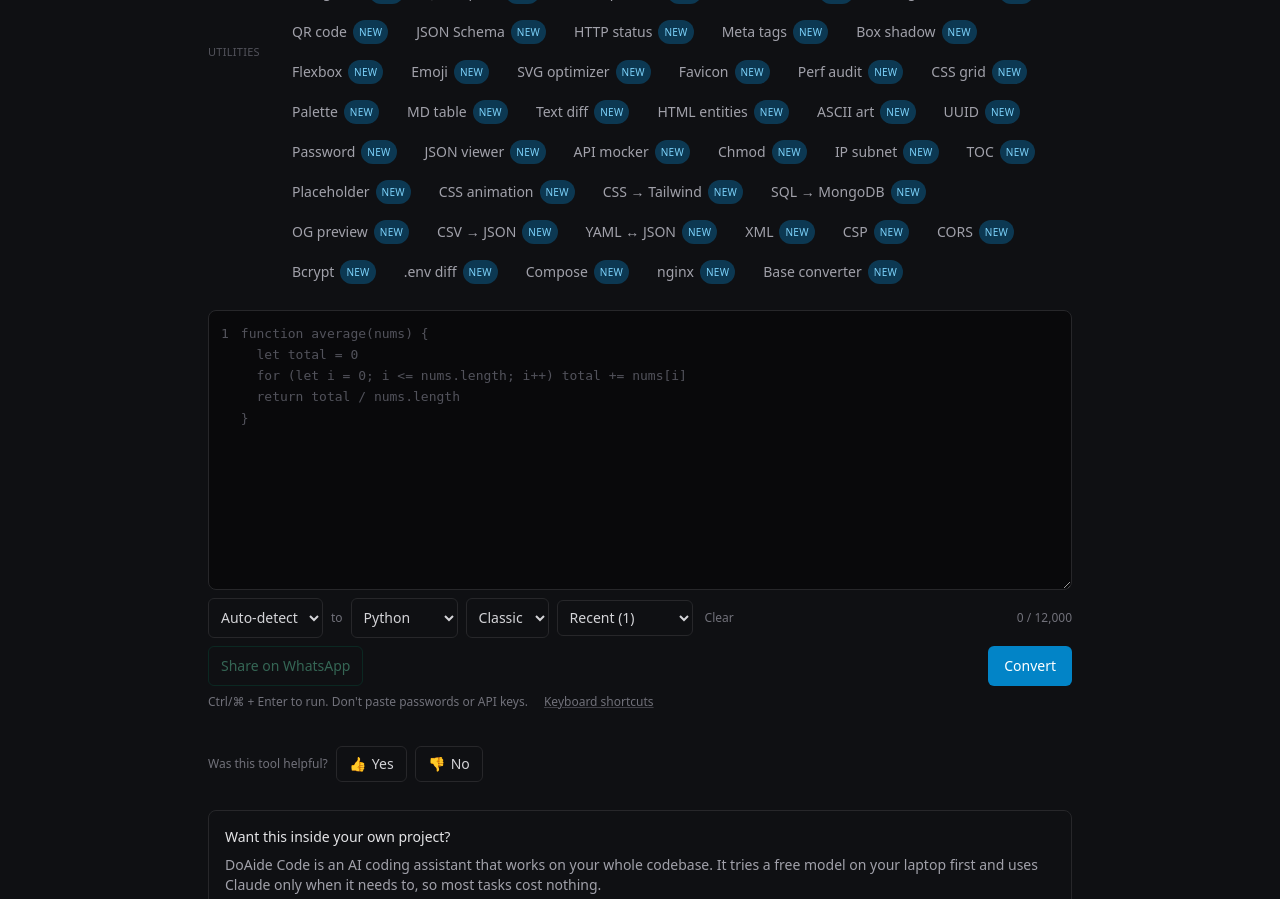
Test: CodeToolsPage › converts with a chosen target language
(page scrolled)
Replace the text in the text box with test id "tool-code" with "x = 1" at {"x": 654, "y": 450}, box [237, 311, 1071, 588]
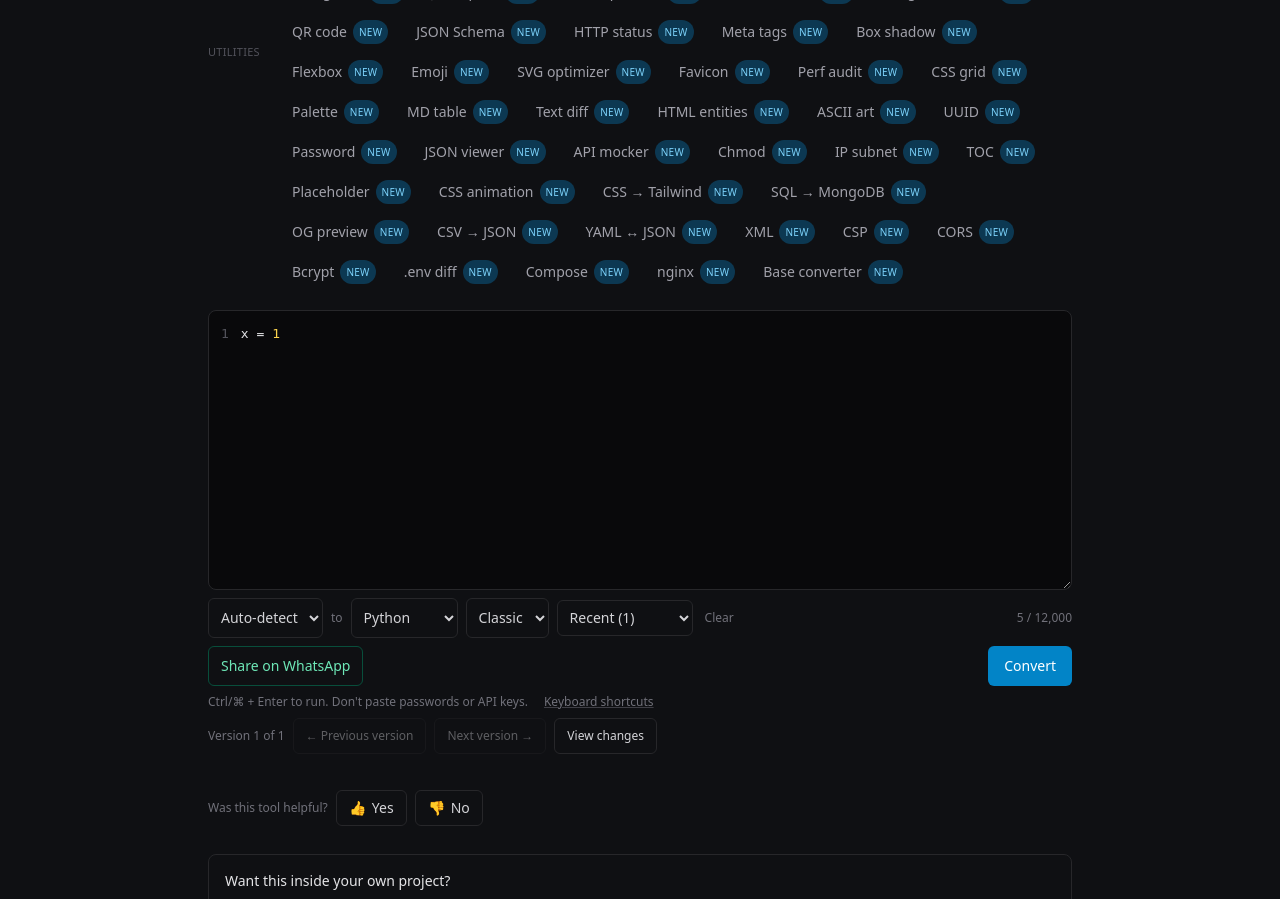
Select "Go" in the dropdown with test id "tool-target" at {"x": 404, "y": 618}, box [351, 598, 458, 638]
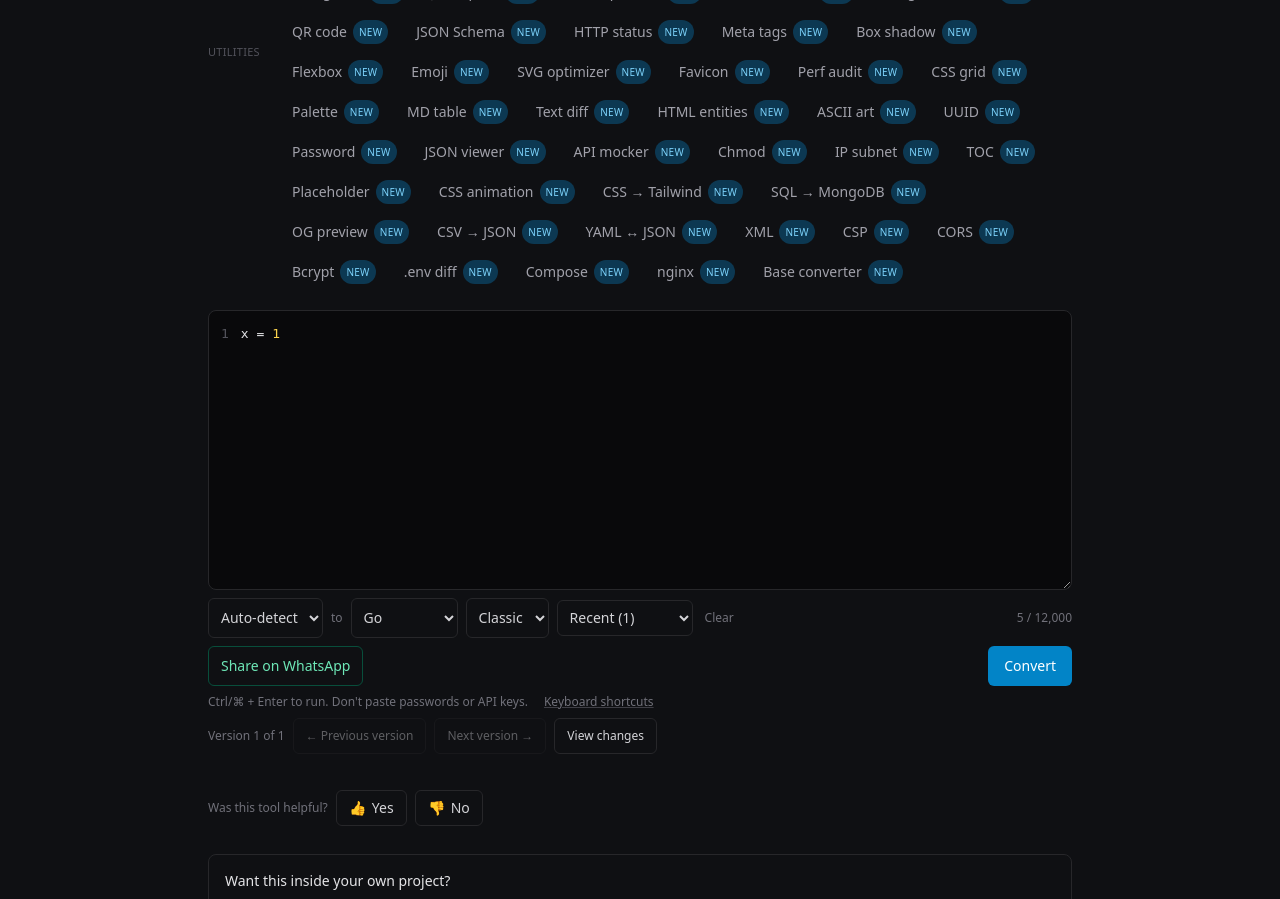
Click the button with test id "tool-run" at {"x": 1030, "y": 666}, box [988, 646, 1072, 686]
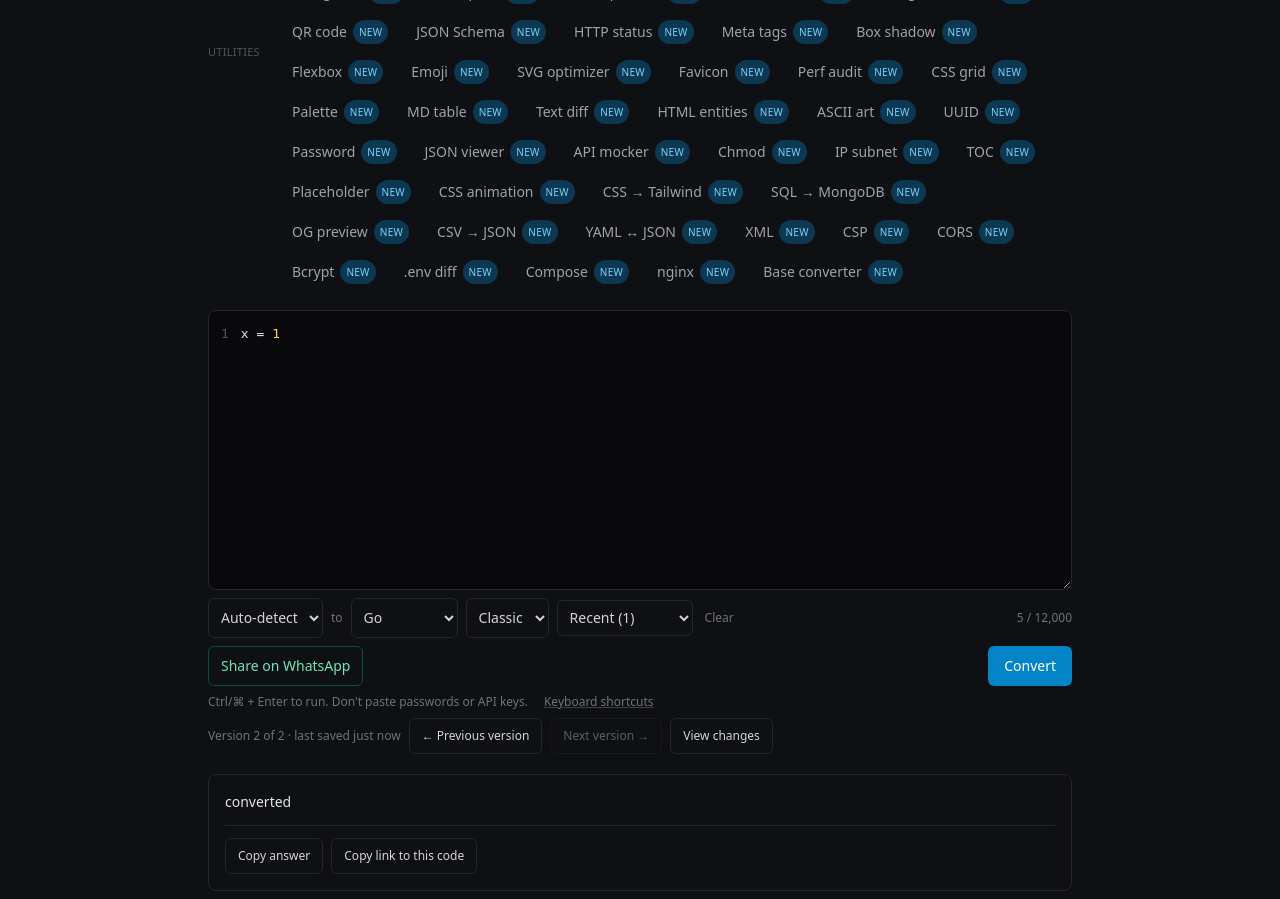
Expected: the element with test id "tool-answer" is shown, [225, 792, 291, 810]
